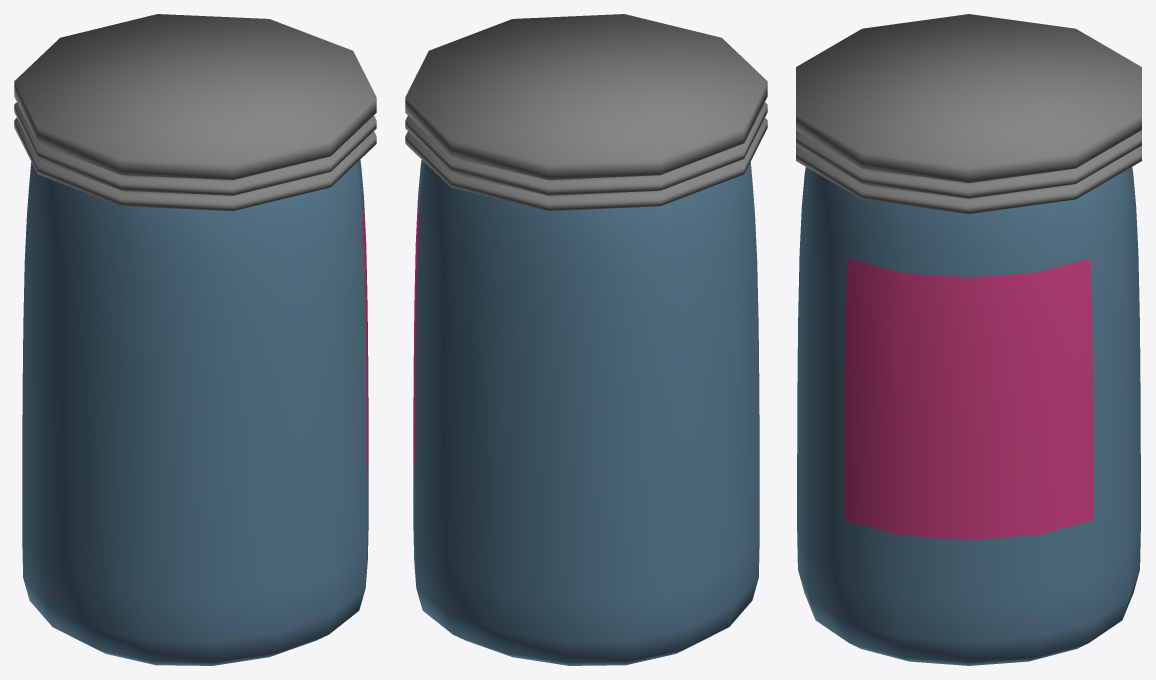
Rendered from Jar.fbx.
The picture shows the model from 3 angles, left to right: view 1: azimuth 30°, elevation 25°; view 2: azimuth 150°, elevation 25°; view 3: azimuth 270°, elevation 25°; orthographic projection.
Visible parts, largest first — view 1: jar; view 2: jar; view 3: jar.
Boxes of the visible parts, x1=… form: jar: x1=14, y1=14, x2=376, y2=665; jar: x1=405, y1=14, x2=767, y2=665; jar: x1=796, y1=14, x2=1141, y2=665.
Size of the model in its own units: 62.03 by 97.75 by 58.99.
